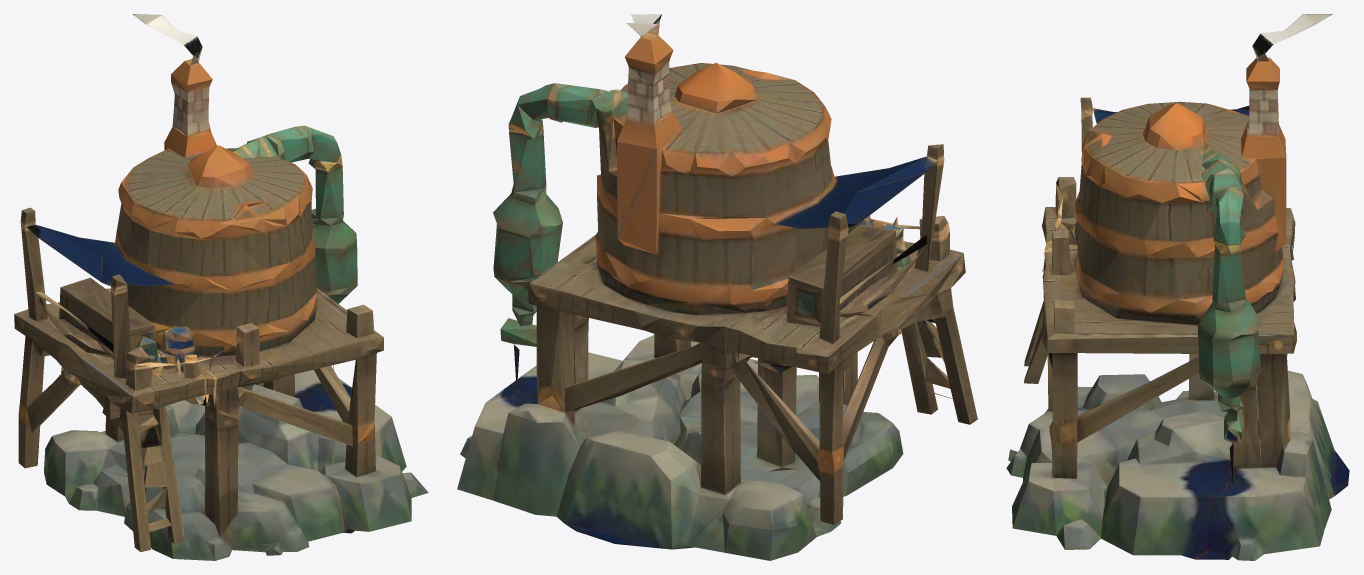
The model's file is refinery.glb.
3 views of the same model, side by side, from view 1: azimuth 30°, elevation 25°; view 2: azimuth 150°, elevation 25°; view 3: azimuth 270°, elevation 25° (orthographic). The views are drawn at different scales.
Parts seen in each view (by area): view 1: refinery; view 2: refinery; view 3: refinery.
Part boxes in pixels (left/top/right/bottom): refinery: left=14, top=14, right=428, bottom=560; refinery: left=457, top=14, right=977, bottom=560; refinery: left=1006, top=14, right=1349, bottom=560.
Bounding box in the file's own units: 1.56 × 1.9 × 1.31.
1 material, 1 textured.
